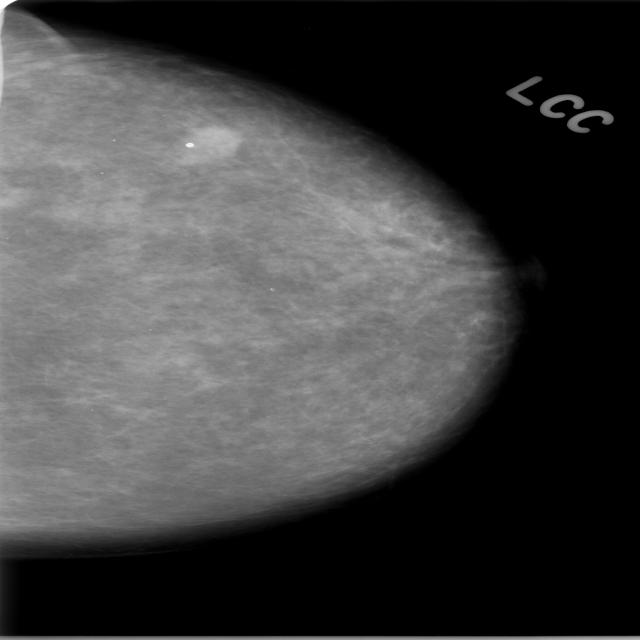normal: (0, 0, 517, 537)
